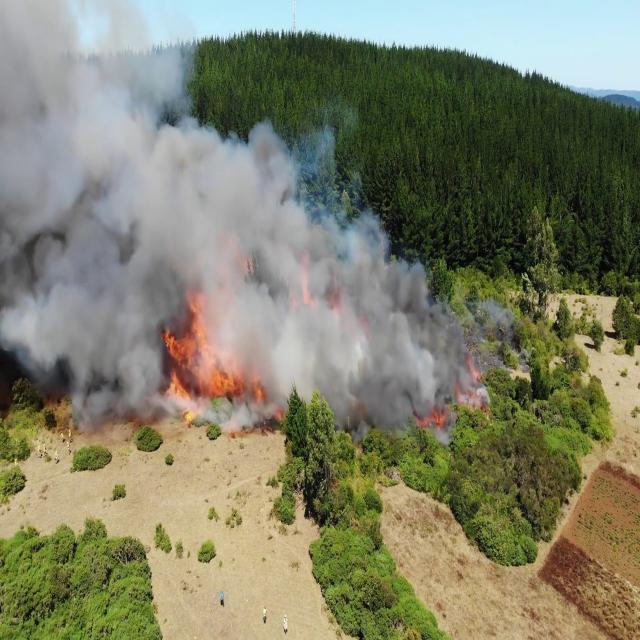Fire: (160, 294, 230, 414)
Smoke: (0, 1, 188, 420), (209, 121, 462, 430)
